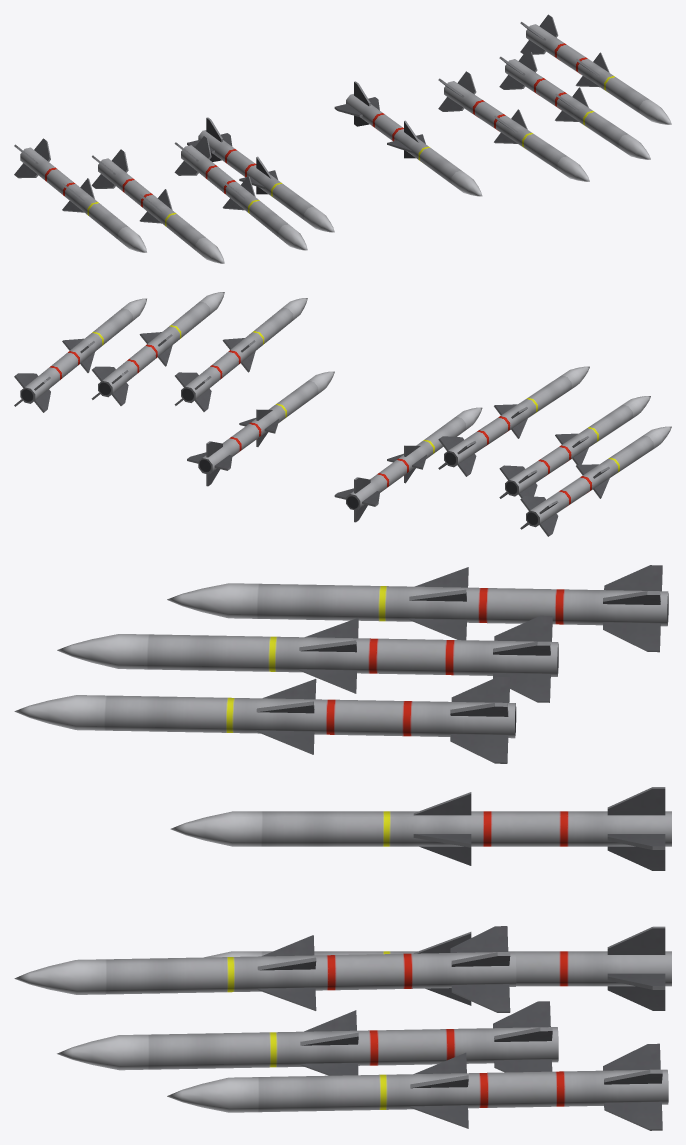
Rendered from hornet_aim120.fbx.
The picture shows the model from 3 angles, top to bottom: view 1: azimuth 30°, elevation 25°; view 2: azimuth 150°, elevation 25°; view 3: azimuth 270°, elevation 25°; orthographic projection. The views are drawn at different scales.
Parts seen in each view (by area): view 1: L_aim120_03, L_aim120_02, L_aim120_01, L_aim120_04, R_aim120_01, R_aim120_03, R_aim120_02, R_aim120_04; view 2: R_aim120_03, R_aim120_01, R_aim120_02, L_aim120_04, L_aim120_03, L_aim120_01, L_aim120_02, R_aim120_04; view 3: L_aim120_01, L_aim120_03, R_aim120_03, R_aim120_02, R_aim120_04, R_aim120_01, L_aim120_02, L_aim120_04.
Part boxes in pixels (x1,y1,x2,y2): L_aim120_03: (438, 71, 589, 181); L_aim120_02: (499, 49, 650, 159); L_aim120_01: (520, 14, 671, 124); L_aim120_04: (334, 81, 482, 196); R_aim120_01: (14, 138, 146, 252); R_aim120_03: (174, 136, 307, 250); R_aim120_02: (91, 149, 224, 263); R_aim120_04: (187, 117, 334, 232); R_aim120_03: (438, 366, 589, 476); R_aim120_01: (520, 426, 671, 536); R_aim120_02: (499, 396, 650, 498); L_aim120_04: (187, 371, 334, 486); L_aim120_03: (174, 298, 307, 411); L_aim120_01: (14, 298, 146, 412); L_aim120_02: (91, 292, 224, 405); R_aim120_04: (334, 407, 482, 522); L_aim120_01: (167, 1043, 668, 1130); L_aim120_03: (14, 926, 516, 1012); R_aim120_03: (14, 677, 516, 763); R_aim120_02: (57, 615, 558, 702); R_aim120_04: (170, 787, 671, 870); R_aim120_01: (167, 565, 668, 652); L_aim120_02: (57, 1001, 558, 1075); L_aim120_04: (204, 926, 671, 1010).
Size of the model in its own units: 890 by 102 by 485.
